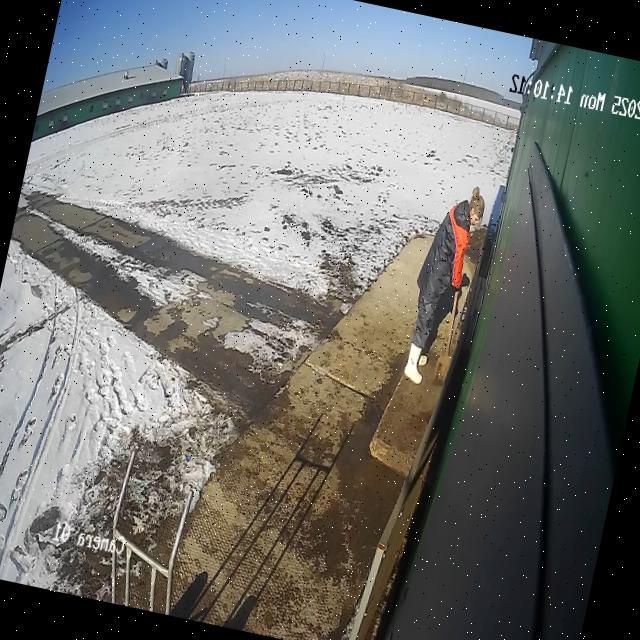Red uniform: (393, 179, 490, 393)
